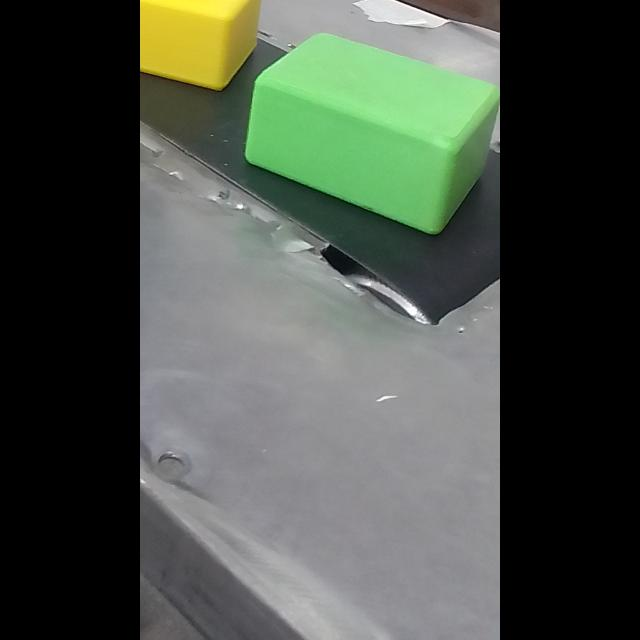greenBox: (242, 23, 500, 241)
yellowBox: (140, 0, 270, 104)
